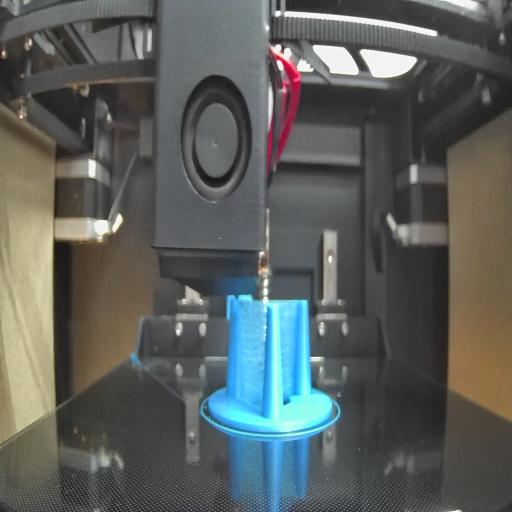stringing: (234, 298, 266, 418), (278, 300, 300, 409)
